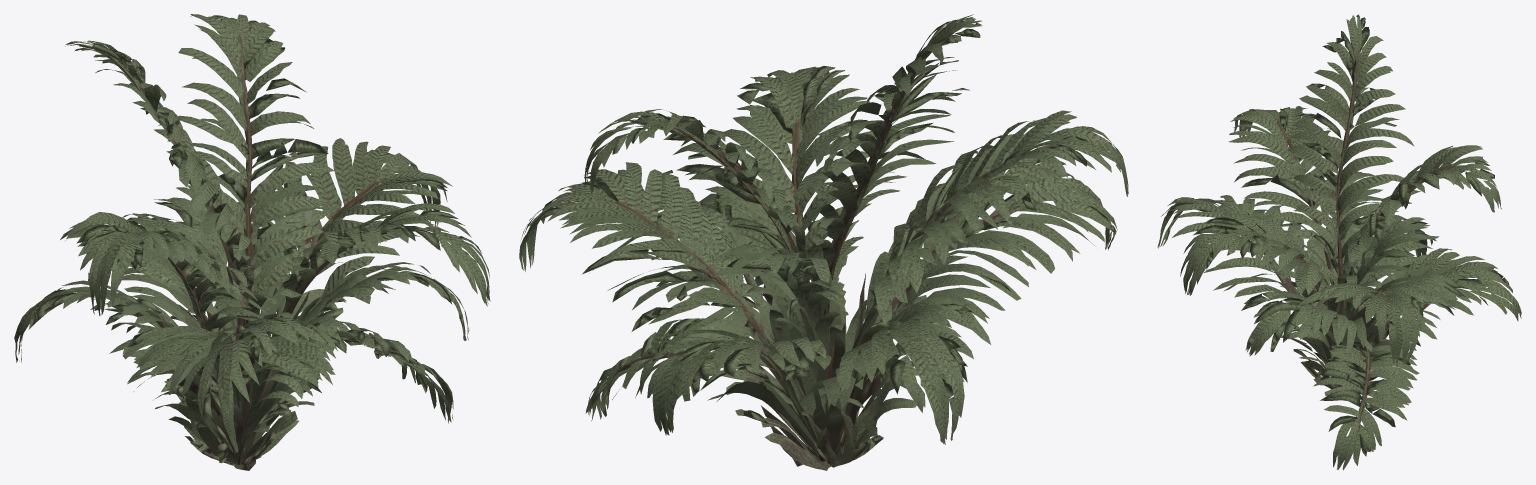
File: midnight_fern.glb
3 renders of one model, left to right at view 1: azimuth 30°, elevation 25°; view 2: azimuth 150°, elevation 25°; view 3: azimuth 270°, elevation 25°, orthographic. The views are drawn at different scales.
Bounding box in the file's own units: 1 × 0.9883 × 0.9883.
1 material, 1 textured.
